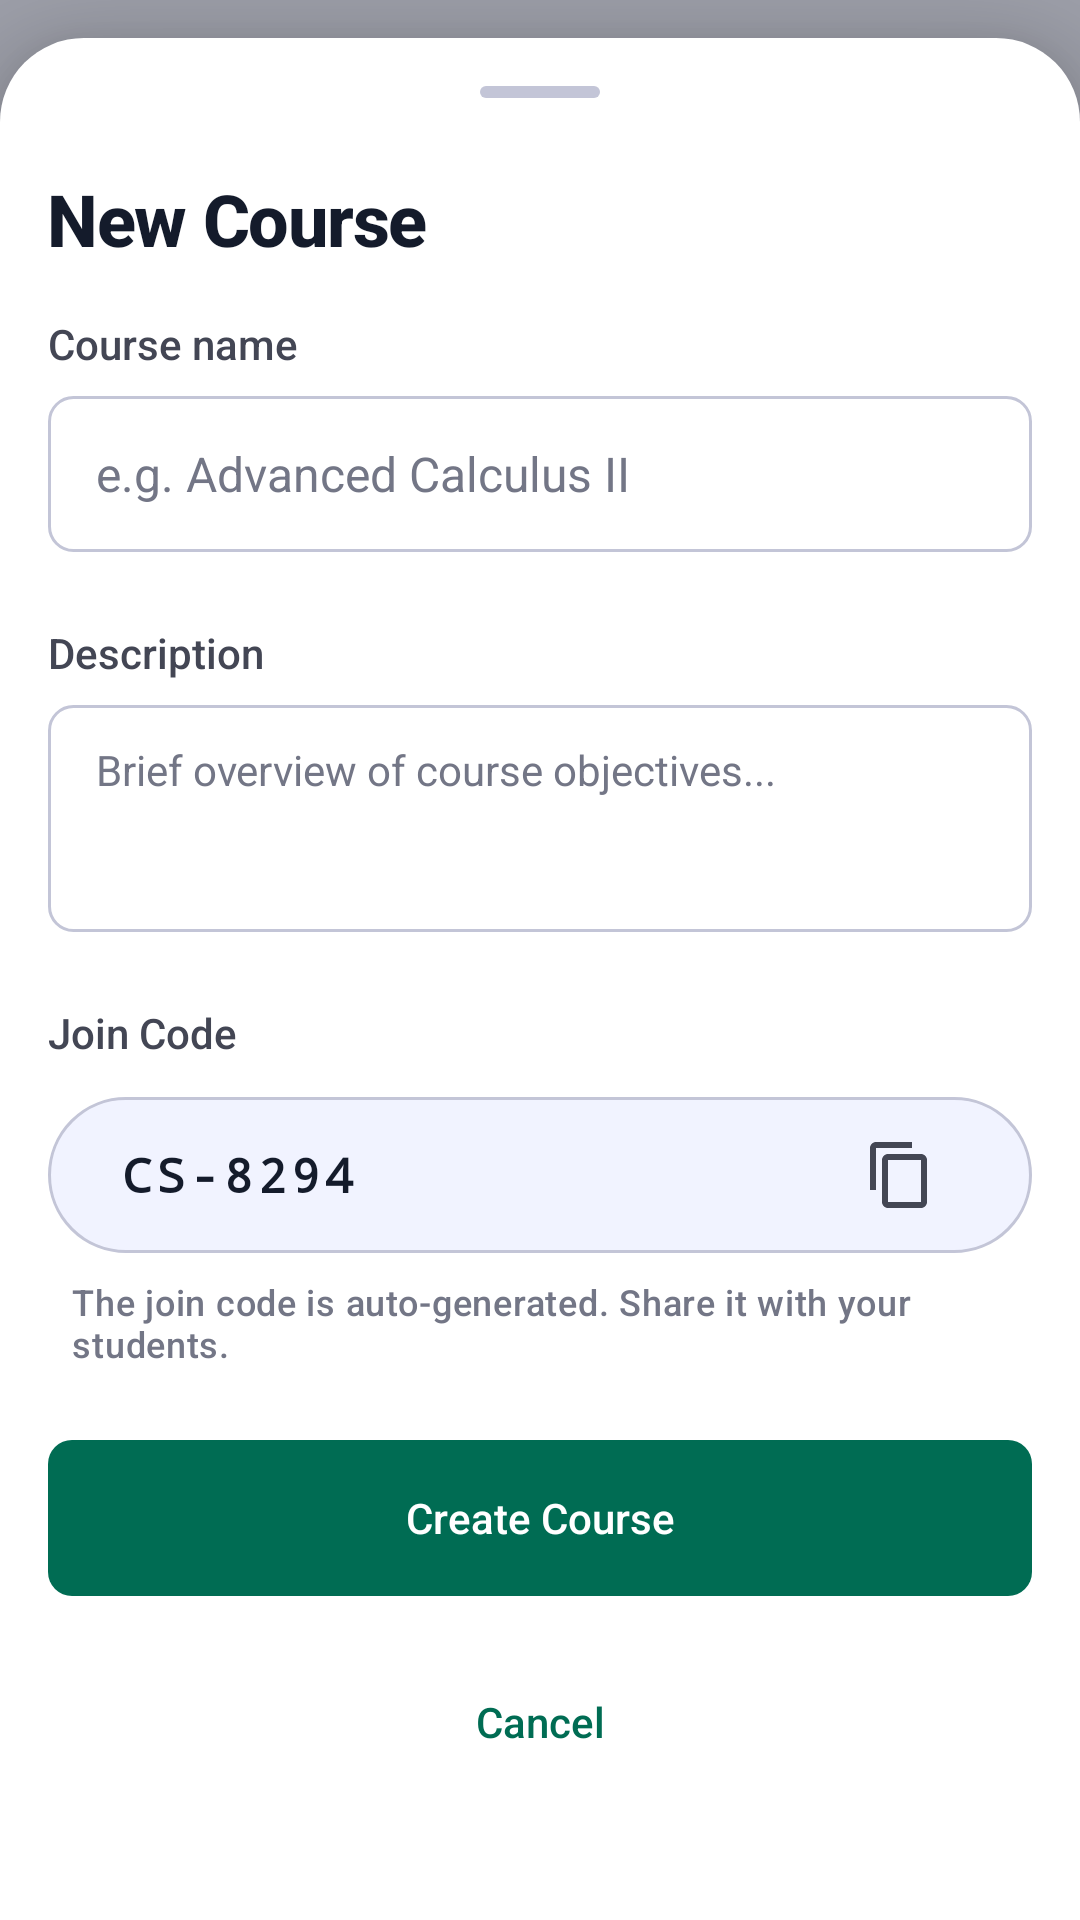

Icon click points for this 1080px x 1920px phone screenshot, format [x,y]:
Copy join code: [898,1175]
